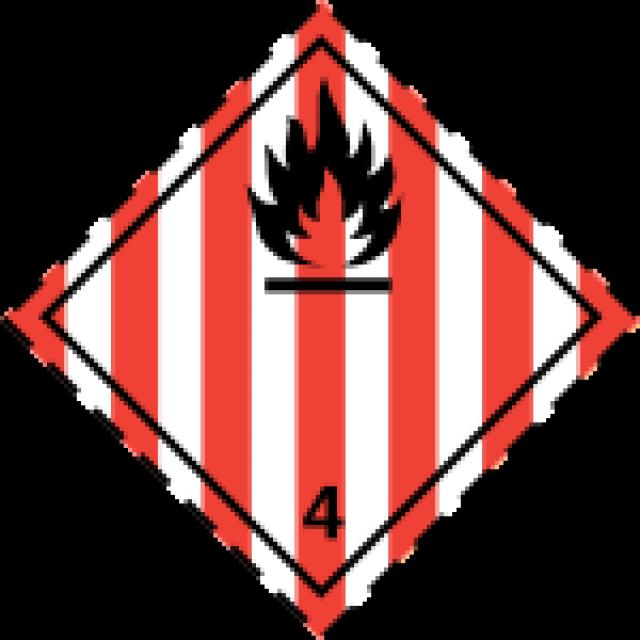Division 4-1: (4, 4, 640, 640)
